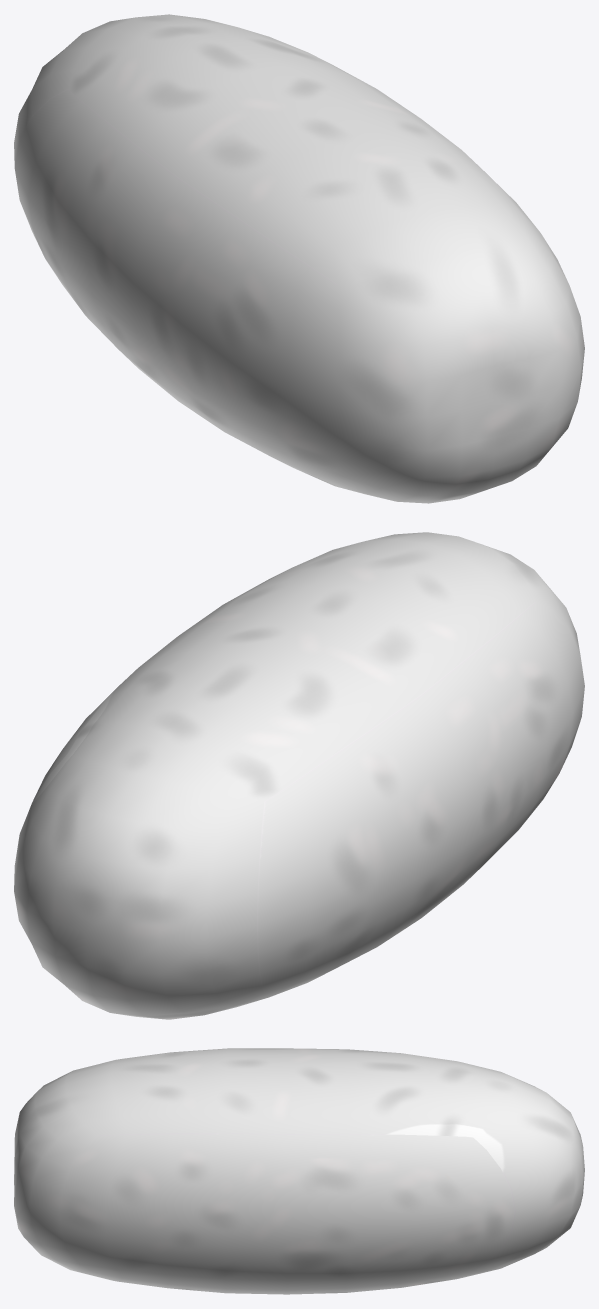
File: syari.fbx
3 renders of one model, top to bottom at view 1: azimuth 30°, elevation 25°; view 2: azimuth 150°, elevation 25°; view 3: azimuth 270°, elevation 25°, orthographic. The views are drawn at different scales.
Visible parts, largest first — view 1: Shari_Shrimp; view 2: Shari_Shrimp; view 3: Shari_Shrimp.
Part boxes in pixels (bbox=[...]): Shari_Shrimp: bbox=[14, 14, 584, 503]; Shari_Shrimp: bbox=[14, 532, 584, 1019]; Shari_Shrimp: bbox=[14, 1048, 584, 1294].
Size of the model in its own units: 0.8498 by 0.7487 by 1.81.
1 material, 1 textured.
